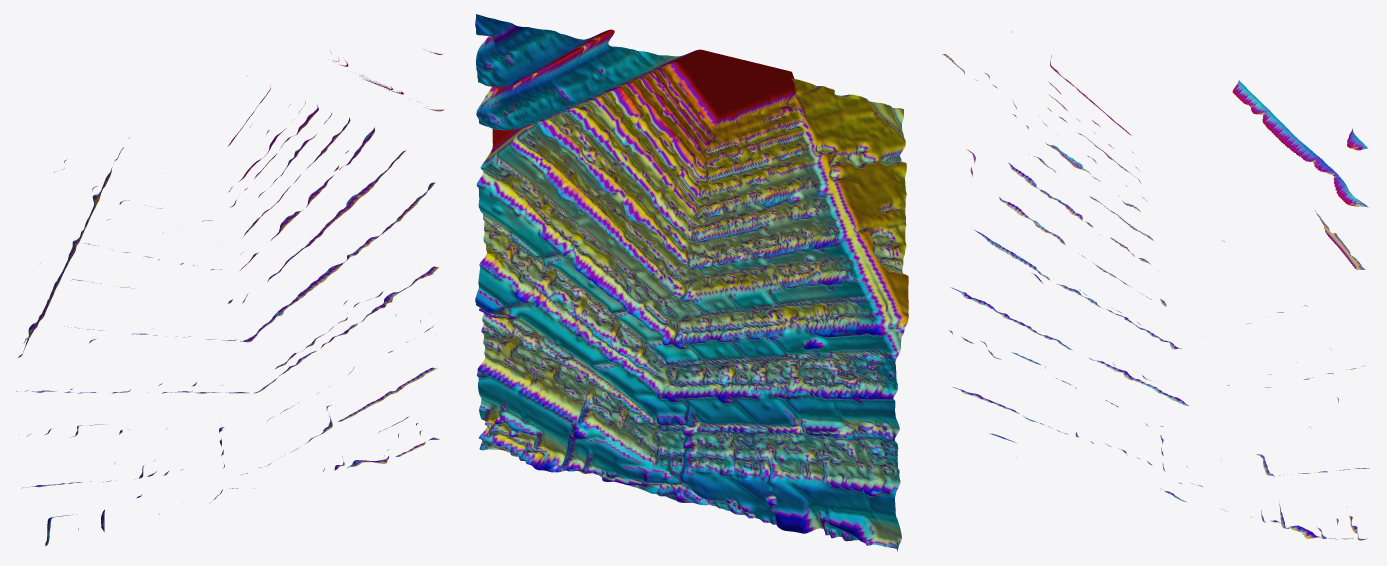
The picture shows the model from 3 angles, left to right: view 1: azimuth 30°, elevation 25°; view 2: azimuth 150°, elevation 25°; view 3: azimuth 330°, elevation 25°; orthographic projection.
Visible parts, largest first — view 1: world; view 2: world; view 3: world.
Part boxes in pixels (<box>): world: <box>16,49,444,546</box>; world: <box>475,14,908,551</box>; world: <box>942,31,1369,540</box>.
Bounding box in the file's own units: 299 × 299 × 30.
